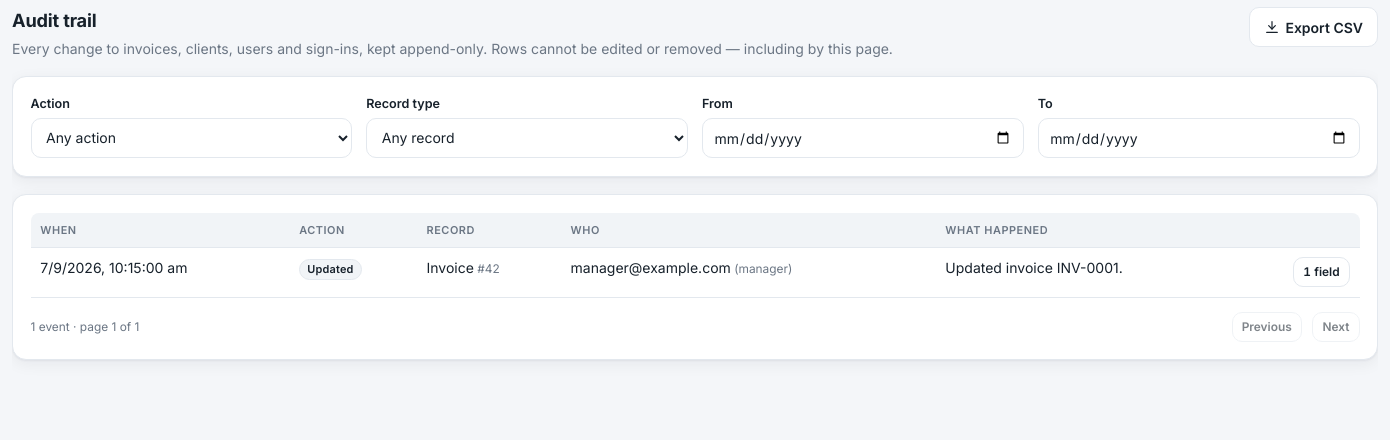
Test: audit trail page › shows an event and reveals its before/after values on demand
Expected: the text "Updated invoice INV-0001." is shown, x1=936 y1=248 x2=1241 y2=297
Expected: the text "Updated" is shown, x1=299 y1=259 x2=362 y2=280
Click the button "1 field". click: [1322, 272]
box: x1=1293 y1=257 x2=1350 y2=287
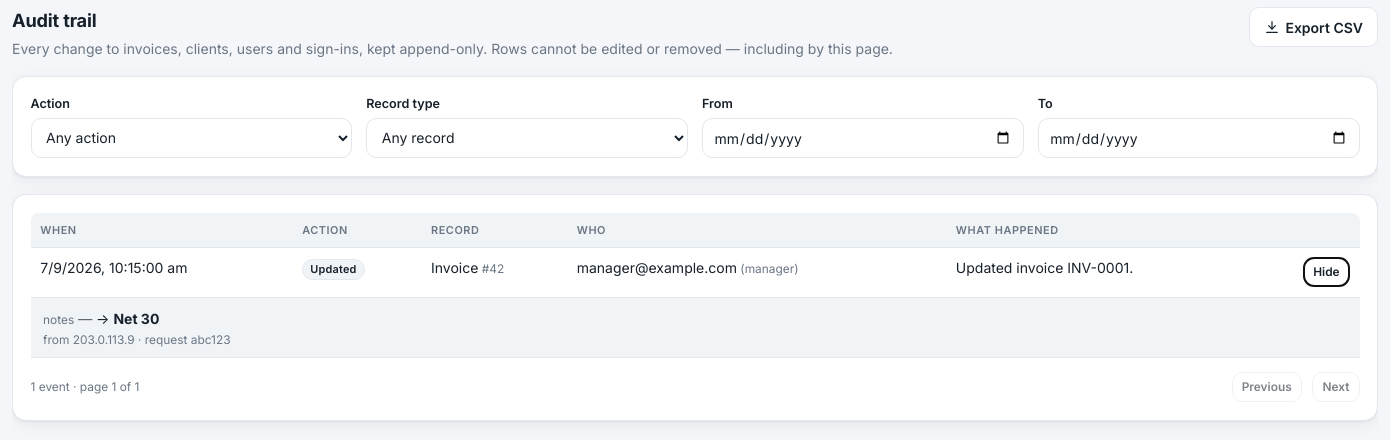
Expected: the text "Net 30" is shown, x1=113 y1=310 x2=159 y2=327
Expected: the text "notes" is shown, x1=43 y1=312 x2=74 y2=327
Expected: the text "from 203.0.113.9 · request abc123" is shown, x1=43 y1=332 x2=231 y2=347
